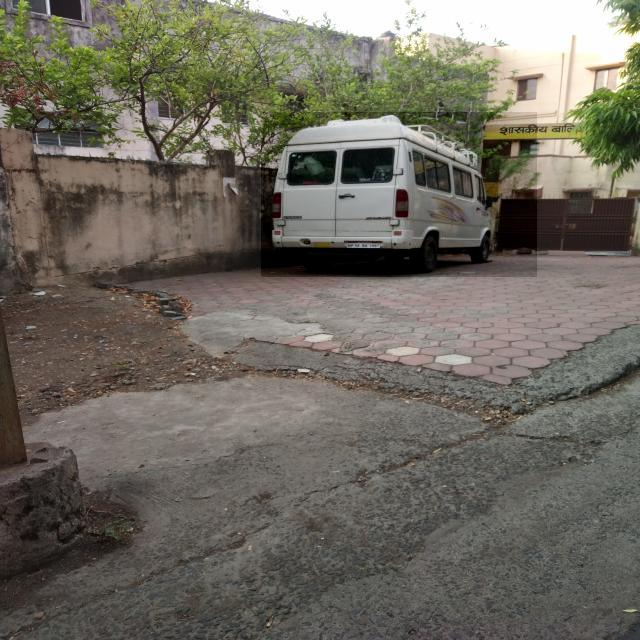Travller: (262, 112, 538, 277)
